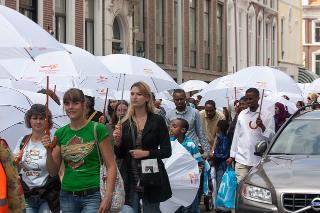person - v3 P: (42, 89, 116, 212), (113, 82, 171, 212), (14, 104, 60, 212), (227, 88, 274, 182), (166, 89, 209, 160), (0, 139, 25, 212), (171, 119, 202, 164), (211, 120, 229, 190), (200, 100, 225, 149), (106, 101, 128, 149), (85, 96, 102, 122), (274, 103, 290, 128), (107, 100, 117, 121), (307, 93, 318, 104)
